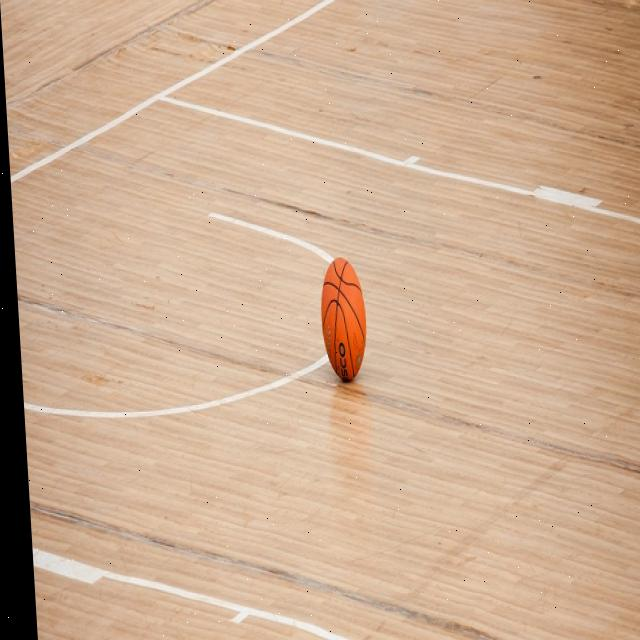Basketball: (316, 257, 368, 381)
